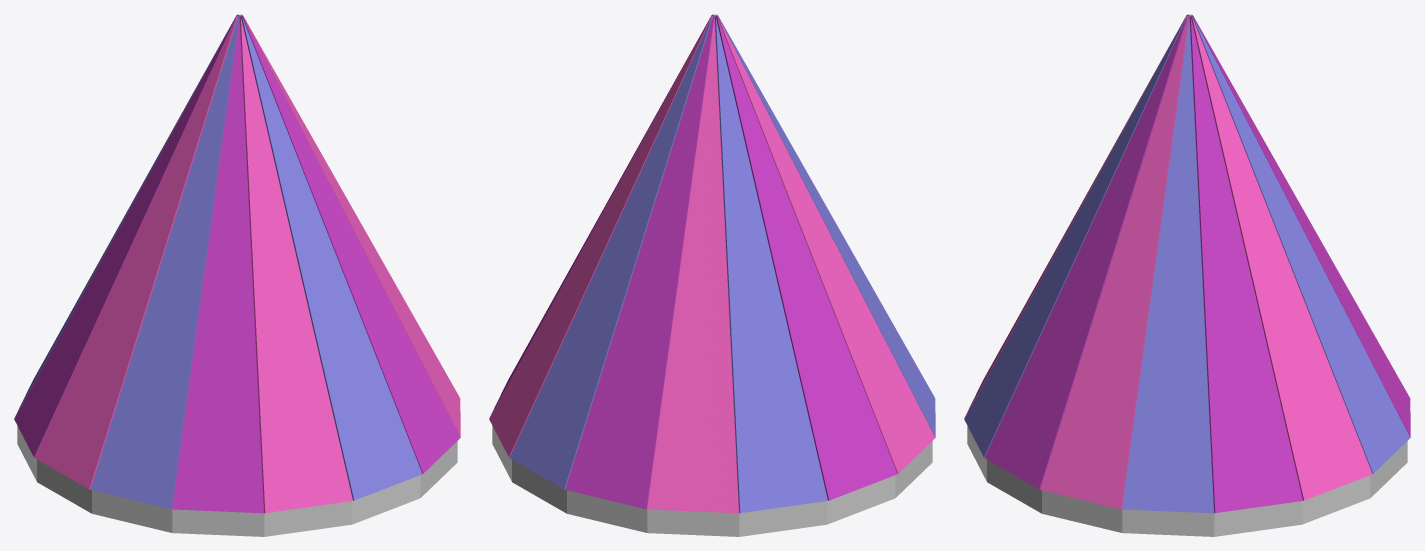
File: Kerucut.fbx
3 views of the same model, side by side, from view 1: azimuth 30°, elevation 25°; view 2: azimuth 150°, elevation 25°; view 3: azimuth 270°, elevation 25° (orthographic).
Parts seen in each view (by area): view 1: Cone.006, Cone.007, Cone.005, Cone.008, Cone.004, Cone.009, Cone.016, Cone.003, Cone.010, Cone.002; view 2: Cone.001, Cone.002, Cone.015, Cone.003, Cone.014, Cone.004, Cone.016, Cone.013, Cone.005, Cone.012; view 3: Cone.011, Cone.012, Cone.010, Cone.013, Cone.009, Cone.014, Cone.016, Cone.008, Cone.015, Cone.007.
Boxes of the visible parts, <box> form: Cone.006: <box>172,17,264,513</box>; Cone.007: <box>239,16,352,513</box>; Cone.005: <box>90,16,239,509</box>; Cone.008: <box>241,16,422,500</box>; Cone.004: <box>34,16,237,489</box>; Cone.009: <box>241,16,460,473</box>; Cone.016: <box>17,426,457,536</box>; Cone.003: <box>14,15,237,457</box>; Cone.010: <box>241,15,460,437</box>; Cone.002: <box>14,15,238,418</box>; Cone.001: <box>647,17,739,513</box>; Cone.002: <box>714,16,827,513</box>; Cone.015: <box>565,16,714,509</box>; Cone.003: <box>716,16,897,500</box>; Cone.014: <box>509,16,712,489</box>; Cone.004: <box>716,16,935,473</box>; Cone.016: <box>492,426,932,536</box>; Cone.013: <box>489,15,712,457</box>; Cone.005: <box>716,15,935,437</box>; Cone.012: <box>489,15,713,418</box>; Cone.011: <box>1122,17,1214,513</box>; Cone.012: <box>1189,16,1302,513</box>; Cone.010: <box>1040,16,1189,509</box>; Cone.013: <box>1191,16,1372,500</box>; Cone.009: <box>984,16,1187,489</box>; Cone.014: <box>1191,16,1410,473</box>; Cone.016: <box>967,426,1407,536</box>; Cone.008: <box>964,15,1187,457</box>; Cone.015: <box>1191,15,1410,437</box>; Cone.007: <box>964,15,1188,418</box>.
Bounding box in the file's own units: 202 × 212 × 201.
